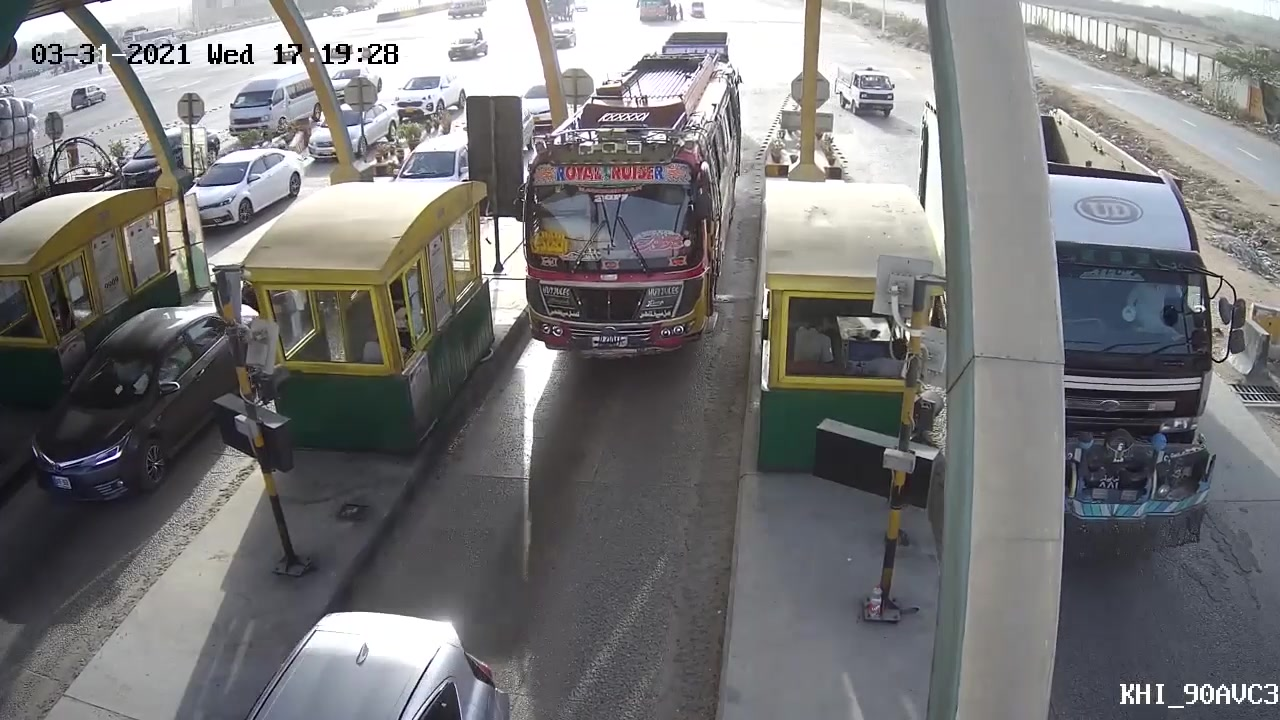F4: (509, 92, 748, 365)
